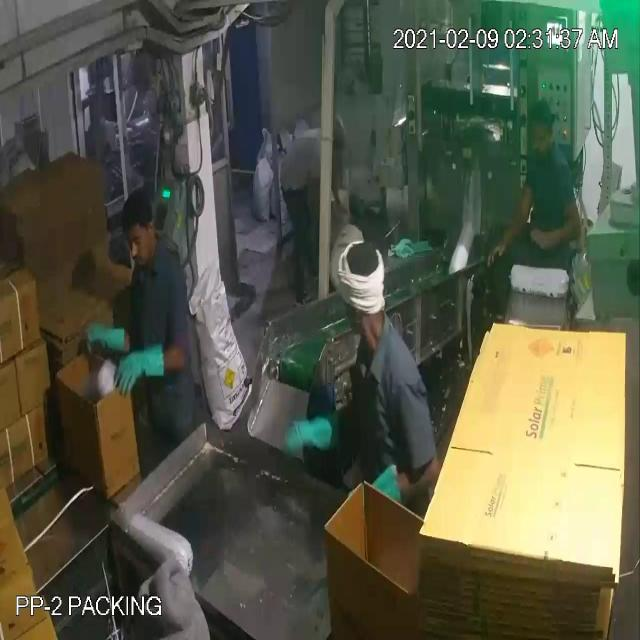gloves: (276, 396, 348, 465), (72, 295, 138, 365), (110, 342, 176, 391)
no-gloves: (483, 173, 537, 271), (526, 195, 586, 257)
